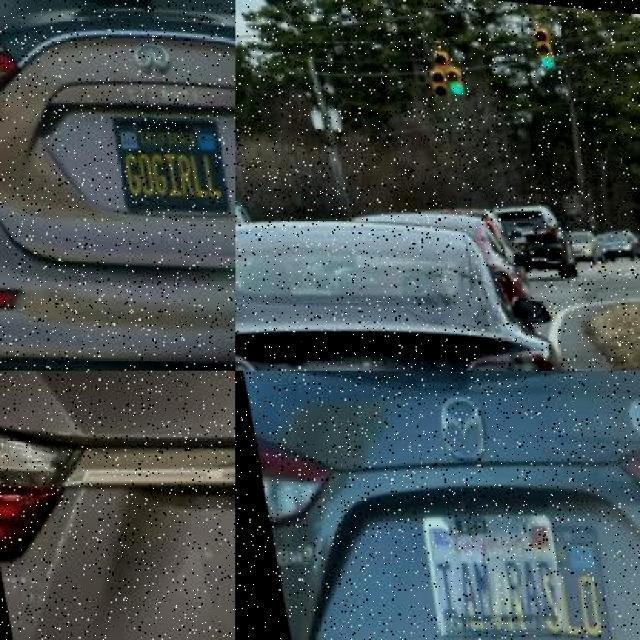LicensePlate: (414, 489, 567, 640), (108, 94, 224, 220)
